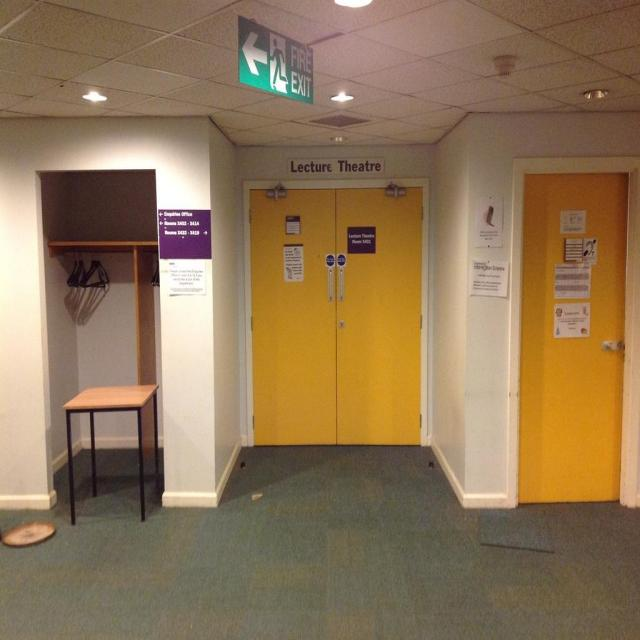table: (51, 349, 168, 522)
